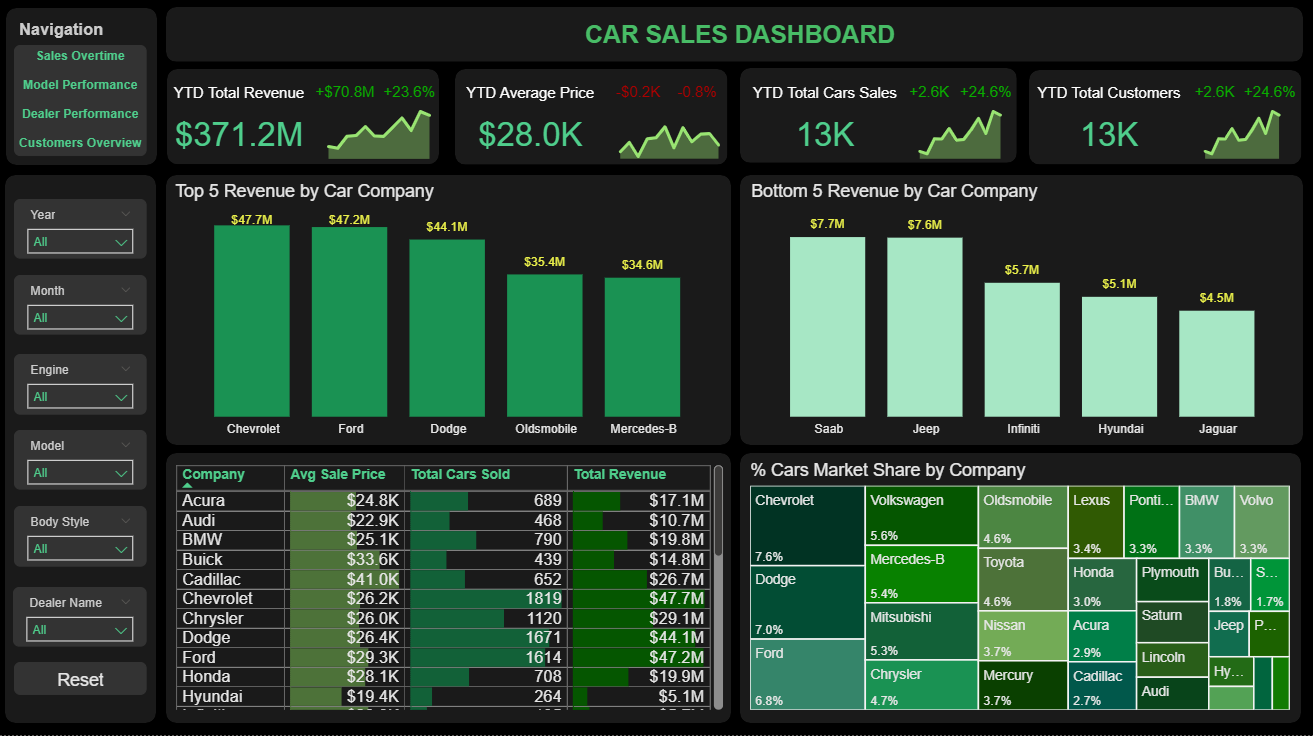

The dashboard page shown, as its layout file describes it:
{"tool":"powerbi","page":{"name":"Brand Performance","canvas":[1280,720],"ordinal":2},"visuals":[{"type":"shape","box":[162.4,445.5,549.5,262.6],"z":0},{"type":"shape","box":[6.8,12.6,146.9,152.7],"z":1000},{"type":"shape","box":[162.4,11.7,1105.9,53.5],"z":2000},{"type":"shape","box":[5.8,175.1,146.9,533],"z":3000},{"type":"shape","box":[1002,73,265,92],"z":4000},{"type":"shape","box":[720.7,71,269.4,92.4],"z":5000},{"type":"shape","box":[162.4,175.1,549.5,262.6],"z":6000},{"type":"slicer","fields":{"Values":["DateTable.Year"]},"box":[14.6,198.4,129.4,58.4],"z":7000},{"type":"tableEx","fields":{"Values":["Car Model.Company","Measrure.Average Sale Price","Measrure.Total Cars Sold","Measrure.Total Revenue"]},"box":[166.4,452.7,542.7,248.2],"z":8000},{"type":"slicer","fields":{"Values":["Car Model.Engine"]},"box":[14.6,349.2,129.4,59.3],"z":9000},{"type":"slicer","fields":{"Values":["Car Model.Model"]},"box":[14.6,423.1,129.4,58.4],"z":10000},{"type":"slicer","fields":{"Values":["Dealer.Dealer_Name"]},"box":[13.6,575.8,130.3,58.4],"z":11000},{"type":"slicer","fields":{"Values":["Car Model.Body Style"]},"box":[14.6,497,129.4,59.3],"z":12000},{"type":"textbox","box":[451.3,19.5,538.8,39.9],"z":13000},{"type":"textbox","box":[14.5,19.1,138.2,29.1],"z":14000},{"type":"actionButton","box":[14.6,648.8,129.4,32.1],"z":15000},{"type":"slicer","fields":{"Values":["DateTable.Month Name"]},"box":[14.6,272.3,129.4,58.4],"z":16000},{"type":"shape","box":[720.7,175.1,547.6,262.6],"z":17000},{"type":"columnChart","title":"Top 5 Revenue by Car Company","fields":{"Y":["Car Sales Datasets.Total Revenue"],"Category":["Car Model.Company"]},"box":[166.4,180.9,541.8,257.3],"z":18000},{"type":"columnChart","title":"Bottom 5 Revenue by Car Company","fields":{"Y":["Car Sales Datasets.Total Revenue"],"Category":["Car Model.Company"]},"box":[726.4,180.9,540,257.3],"z":19000},{"type":"pageNavigator","box":[14.6,48.6,129.4,108],"z":20000},{"type":"shape","box":[720.7,445.5,545.7,262.6],"z":21000},{"type":"treemap","title":"% Cars Market Share by Company","fields":{"Values":["Measrure.Cars Market Share %"],"Group":["Car Model.Company"]},"box":[725.5,452.7,534.5,248.2],"z":22000},{"type":"shape","box":[163.6,71.8,264.5,92.7],"z":23000},{"type":"card","title":"YTD Total Revenue","fields":{"Values":["Measrure.YTD Revenue"]},"box":[164.5,87.3,138.2,78.2],"z":24000},{"type":"card","fields":{"Values":["Sales.Revenue Diff and Icon"]},"box":[302.7,72.7,68.2,46.4],"z":25000},{"type":"card","fields":{"Values":["Measrure.YOY Revenue Growth and Icon"]},"box":[368.2,72.7,60.9,46.4],"z":26000},{"type":"shape","box":[443.3,71.6,265.1,93.1],"z":27000},{"type":"card","fields":{"Values":["Measrure.Avg Sale Price Diff and Icon"]},"box":[589.1,72.7,64.5,46.4],"z":28000},{"type":"card","fields":{"Values":["Measrure.YOY Avg Price Growth and Icon"]},"box":[653.6,72.7,50.9,46.4],"z":29000},{"type":"card","title":" YTD Average Price","fields":{"Values":["Measrure.YTD Avg Sale Price"]},"box":[444.5,87.3,144.5,78.2],"z":30000},{"type":"card","title":"YTD Total Cars Sales","fields":{"Values":["Measrure.YTD Total Cars Sold"]},"box":[726.4,87.3,153.6,78.2],"z":31000},{"type":"card","fields":{"Values":["Measrure.Total Cars Sold Diff and Icon"]},"box":[880,72.7,49.1,46.4],"z":32000},{"type":"card","fields":{"Values":["Measure.YOY Total Cars Sold Growth and Icon"]},"box":[929.1,72.7,61.8,46.4],"z":33000},{"type":"card","title":"YTD Total Customers","fields":{"Values":["Measure.YTD Total Customers"]},"box":[1002.7,87.3,153.6,78.2],"z":34000},{"type":"card","fields":{"Values":["Measure.Total Customers Diff and Icon"]},"box":[1156.4,72.7,51.8,46.4],"z":35000},{"type":"card","fields":{"Values":["Measure.YOY Total Customers Growth and Icon"]},"box":[1205.5,72.7,61.8,46.4],"z":36000},{"type":"lineChart","fields":{"Category":["DateTable.Month Number"],"Y":["Measure.Total Revenue"]},"box":[296.4,86,163.9,78.8],"z":40000},{"type":"lineChart","fields":{"Category":["DateTable.Month Number"],"Y":["Measure.Average Sale Price"]},"box":[580.3,99.4,160.3,65.4],"z":40001},{"type":"lineChart","fields":{"Category":["DateTable.Month Number"],"Y":["Measure.Total Cars Sold"]},"box":[873.1,96.7,137,68.1],"z":40002},{"type":"lineChart","fields":{"Category":["DateTable.Month Number"],"Y":["Customer.Total Customers"]},"box":[1151.6,96.7,128.1,68.1],"z":40003}]}

Visuals, with their boxes in screenshot pixels (x1, y1, x2, y2), scaled from the page's 1280x720 canvas onto the 1313x736 screenshot:
shape: l=167, t=455, r=730, b=724
shape: l=7, t=13, r=158, b=169
shape: l=167, t=12, r=1301, b=67
shape: l=6, t=179, r=157, b=724
shape: l=1028, t=75, r=1300, b=169
shape: l=739, t=73, r=1016, b=167
shape: l=167, t=179, r=730, b=447
slicer - DateTable.Year: l=15, t=203, r=148, b=263
tableEx - Car Model.Company x Measrure.Average Sale Price: l=171, t=463, r=727, b=716
slicer - Car Model.Engine: l=15, t=357, r=148, b=418
slicer - Car Model.Model: l=15, t=433, r=148, b=492
slicer - Dealer.Dealer_Name: l=14, t=589, r=148, b=648
slicer - Car Model.Body Style: l=15, t=508, r=148, b=569
textbox: l=463, t=20, r=1016, b=61
textbox: l=15, t=20, r=157, b=49
actionButton: l=15, t=663, r=148, b=696
slicer - DateTable.Month Name: l=15, t=278, r=148, b=338
shape: l=739, t=179, r=1301, b=447
"Top 5 Revenue by Car Company" columnChart: l=171, t=185, r=726, b=448
"Bottom 5 Revenue by Car Company" columnChart: l=745, t=185, r=1299, b=448
pageNavigator: l=15, t=50, r=148, b=160
shape: l=739, t=455, r=1299, b=724
"% Cars Market Share by Company" treemap: l=744, t=463, r=1292, b=716
shape: l=168, t=73, r=439, b=168
"YTD Total Revenue" card: l=169, t=89, r=311, b=169
card - Sales.Revenue Diff and Icon: l=311, t=74, r=380, b=122
card - Measrure.YOY Revenue Growth and Icon: l=378, t=74, r=440, b=122
shape: l=455, t=73, r=727, b=168
card - Measrure.Avg Sale Price Diff and Icon: l=604, t=74, r=670, b=122
card - Measrure.YOY Avg Price Growth and Icon: l=670, t=74, r=723, b=122
" YTD Average Price" card: l=456, t=89, r=604, b=169
"YTD Total Cars Sales" card: l=745, t=89, r=903, b=169
card - Measrure.Total Cars Sold Diff and Icon: l=903, t=74, r=953, b=122
card - Measure.YOY Total Cars Sold Growth and Icon: l=953, t=74, r=1016, b=122
"YTD Total Customers" card: l=1029, t=89, r=1186, b=169
card - Measure.Total Customers Diff and Icon: l=1186, t=74, r=1239, b=122
card - Measure.YOY Total Customers Growth and Icon: l=1237, t=74, r=1300, b=122
lineChart - DateTable.Month Number x Measure.Total Revenue: l=304, t=88, r=472, b=168
lineChart - DateTable.Month Number x Measure.Average Sale Price: l=595, t=102, r=760, b=168
lineChart - DateTable.Month Number x Measure.Total Cars Sold: l=896, t=99, r=1036, b=168
lineChart - DateTable.Month Number x Customer.Total Customers: l=1181, t=99, r=1312, b=168
